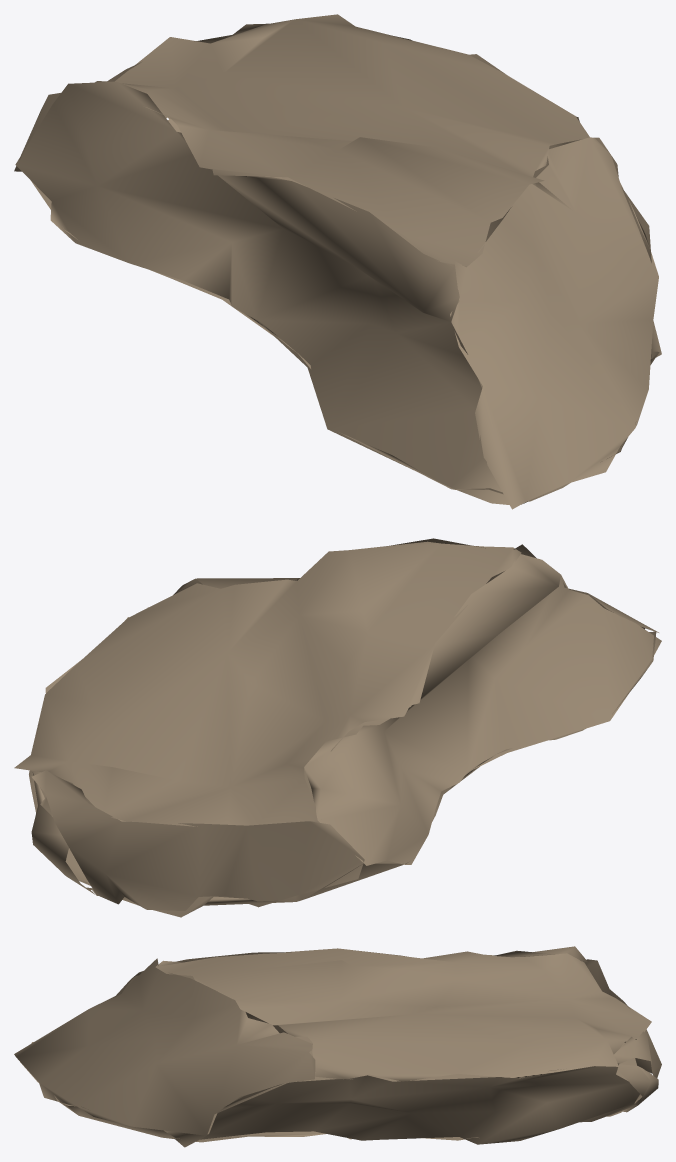
File: rock-granite-flat-lod1.glb
3 renders of one model, top to bottom at view 1: azimuth 30°, elevation 25°; view 2: azimuth 150°, elevation 25°; view 3: azimuth 270°, elevation 25°, orthographic. The views are drawn at different scales.
Parts seen in each view (by area): view 1: rock-granite-flat.001; view 2: rock-granite-flat.001; view 3: rock-granite-flat.001.
Part boxes in pixels (left/top/right/bottom): rock-granite-flat.001: left=14, top=14, right=661, bottom=509; rock-granite-flat.001: left=14, top=538, right=661, bottom=917; rock-granite-flat.001: left=14, top=946, right=661, bottom=1147.
Size of the model in its own units: 2.74 by 1.2 by 5.35.
